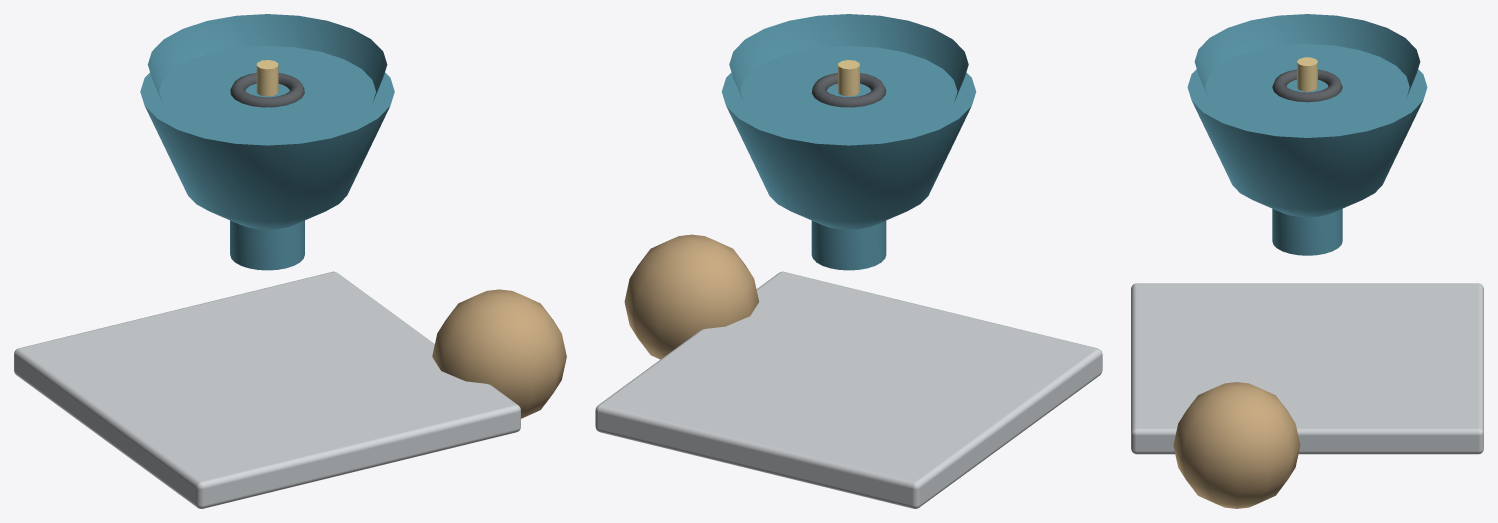
Rendered from geotechnical-soil-testing-laboratory-sand-cone-density-fc910398__39075.glb.
The picture shows the model from 3 angles, left to right: view 1: azimuth 30°, elevation 25°; view 2: azimuth 150°, elevation 25°; view 3: azimuth 270°, elevation 25°; orthographic projection. The views are drawn at different scales.
Parts seen in each view (by area): view 1: sand-cone-density-apparatus; view 2: sand-cone-density-apparatus; view 3: sand-cone-density-apparatus.
Boxes of the visible parts, left/top/right/bottom form: sand-cone-density-apparatus: left=14, top=14, right=566, bottom=508; sand-cone-density-apparatus: left=595, top=14, right=1102, bottom=508; sand-cone-density-apparatus: left=1131, top=14, right=1483, bottom=508.
Size of the model in its own units: 0.64 by 0.55 by 0.5.
